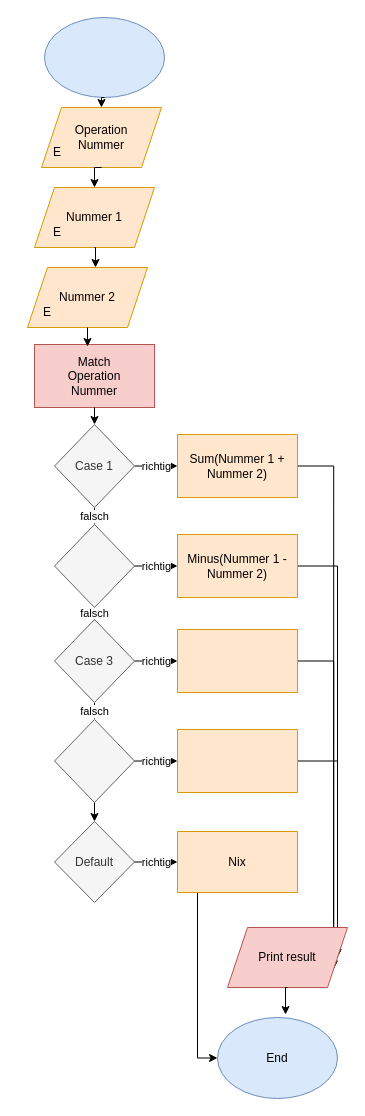
This 365x1116 diagram has some shape labels left out. Each missing label, with the box of its shape:
Case 2: (54, 524, 134, 608)
Case 4: (54, 718, 134, 802)
Divide(Nummer 1 / Nummer 2): (176, 728, 298, 792)
Multiply(Nummer 1 * Nummer 2): (176, 628, 298, 692)
Start: (44, 16, 164, 98)
